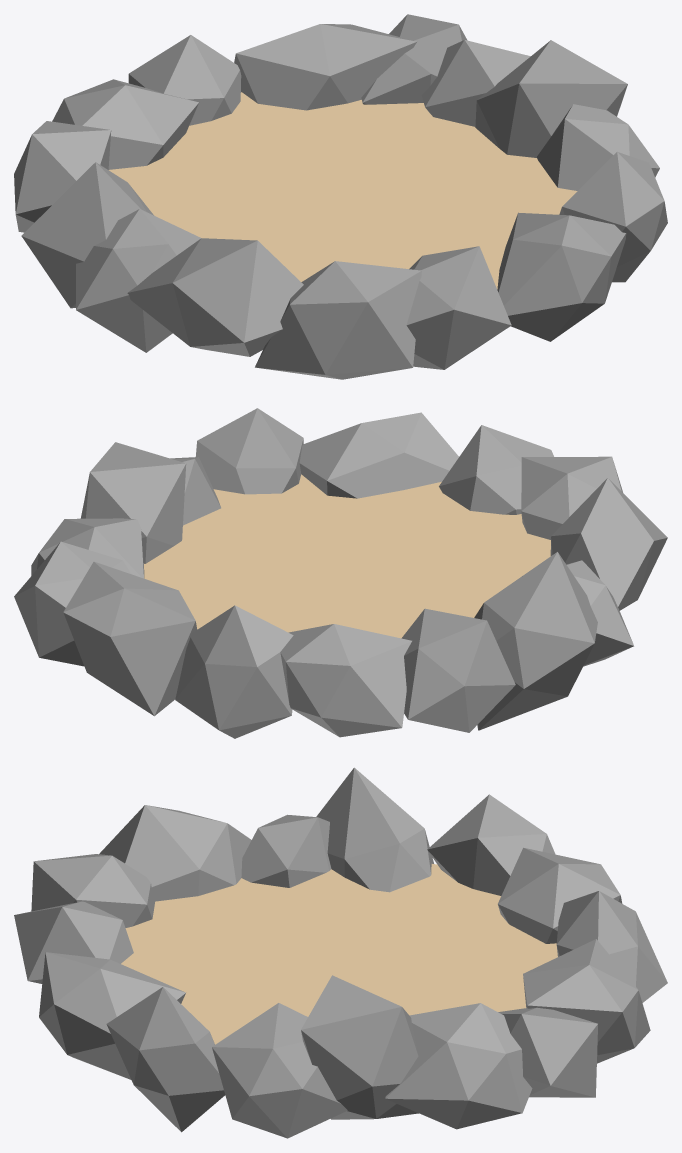
Rendered from planter.glb.
3 views of the same model, one above another, from view 1: azimuth 30°, elevation 25°; view 2: azimuth 150°, elevation 25°; view 3: azimuth 270°, elevation 25° (orthographic). The views are drawn at different scales.
Parts seen in each view (by area): view 1: Circle; view 2: Circle; view 3: Circle.
Boxes of the visible parts, x1,y1,x2,y2 form: Circle: (14, 14, 667, 379); Circle: (14, 408, 667, 738); Circle: (14, 767, 667, 1138).
Size of the model in its own units: 2.39 by 0.7249 by 2.45.
